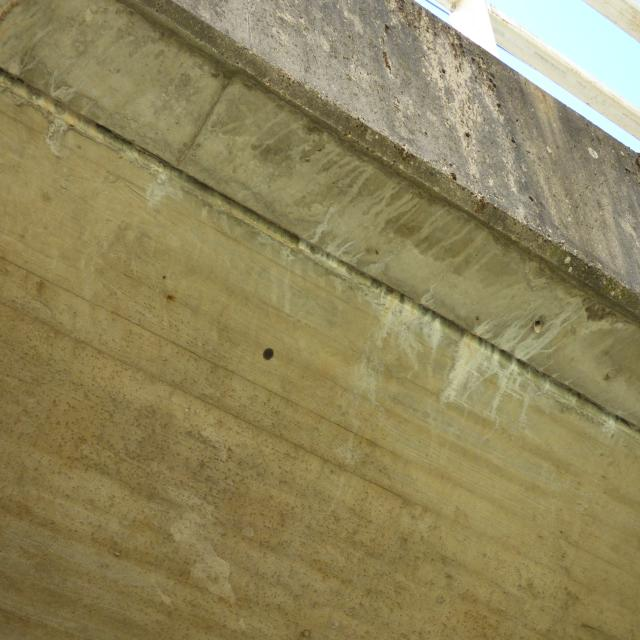corrosion: (160, 273, 184, 305)
